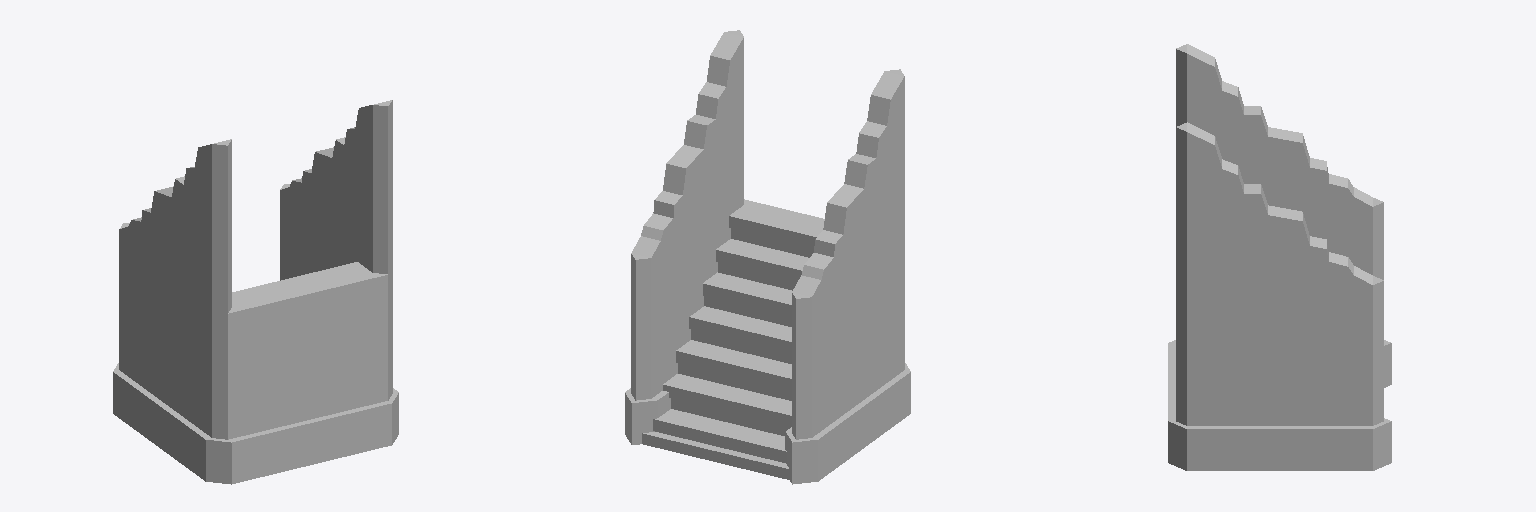
File: sm_hallway_stair_01.obj
3 renders of one model, left to right at view 1: azimuth 30°, elevation 25°; view 2: azimuth 150°, elevation 25°; view 3: azimuth 270°, elevation 25°, orthographic.
Parts seen in each view (by area): view 1: wall_01_187, wall_01_172, wall_ruined_188, wall_ruined_189, wall_01_176, stairs_04_186; view 2: stairs_04_186, wall_01_172, wall_ruined_189, wall_ruined_188, wall_01_176, floor_square_169, wall_01_187; view 3: wall_01_176, wall_ruined_188, wall_ruined_189, wall_01_172, wall_01_187.
Part boxes in pixels (bbox=[...]): wall_01_187: bbox=[228, 269, 398, 483]; wall_01_172: bbox=[113, 244, 233, 484]; wall_ruined_188: bbox=[280, 100, 392, 274]; wall_ruined_189: bbox=[119, 139, 231, 313]; wall_01_176: bbox=[280, 205, 398, 434]; stairs_04_186: bbox=[232, 262, 366, 306]; stairs_04_186: bbox=[653, 209, 823, 463]; wall_01_172: bbox=[785, 244, 910, 484]; wall_ruined_189: bbox=[792, 69, 904, 313]; wall_ruined_188: bbox=[631, 30, 743, 274]; wall_01_176: bbox=[625, 216, 730, 444]; floor_square_169: bbox=[642, 432, 789, 479]; wall_01_187: bbox=[739, 199, 910, 372]; wall_01_176: bbox=[1168, 296, 1391, 470]; wall_ruined_188: bbox=[1176, 122, 1383, 299]; wall_ruined_189: bbox=[1176, 44, 1383, 221]; wall_01_172: bbox=[1306, 217, 1391, 387]; wall_01_187: bbox=[1168, 297, 1193, 470].
Bounding box in the file's own units: 1.21 × 2 × 1.21.